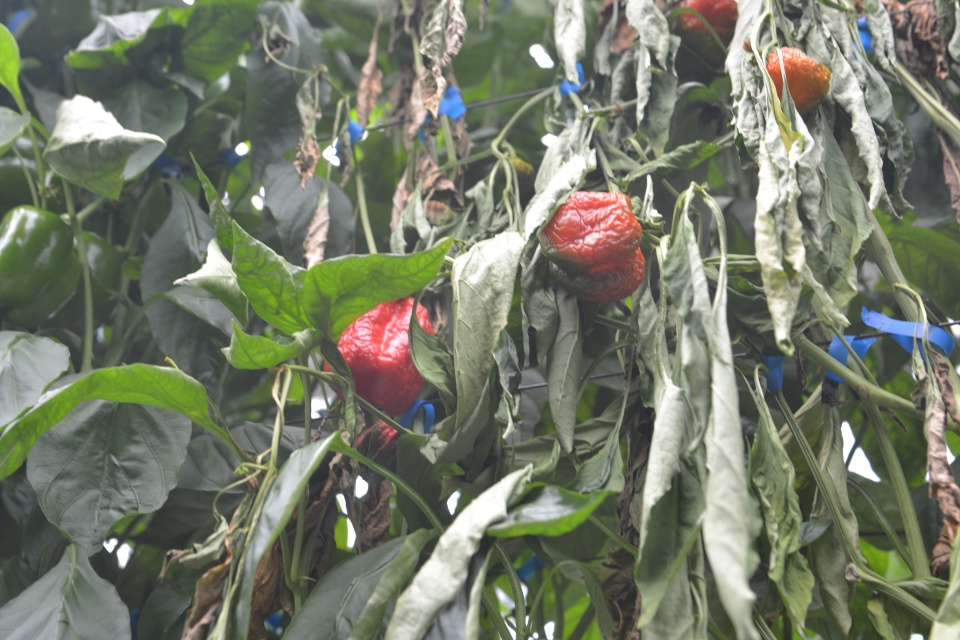fruit: (322, 292, 436, 418), (536, 189, 646, 306), (0, 200, 81, 332), (41, 226, 122, 335), (765, 44, 832, 118), (675, 0, 739, 50), (355, 418, 401, 483)
